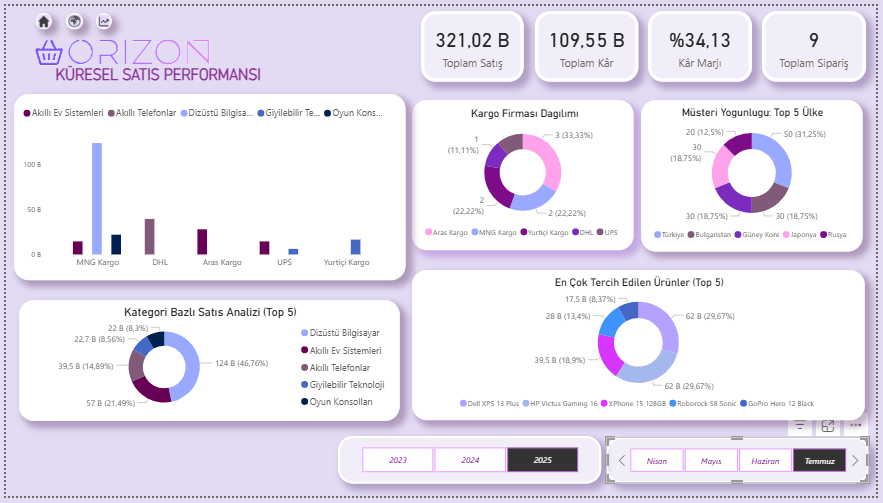

This screenshot's page, from the dashboard's own definition file:
{"tool":"powerbi","page":{"name":"Sayfa3","canvas":[1280,720],"ordinal":2},"visuals":[{"type":"slicer","fields":{"Values":["Takvim.Yıl"]},"box":[488.9,631.7,387.3,69.8],"z":0},{"type":"slicer","fields":{"Values":["Takvim.Ay"]},"box":[882.5,633.3,387.3,68.3],"z":1000},{"type":"donutChart","title":"Kargo Firması Dagılımı","fields":{"Category":["public siparisler.Kargo Firması"],"Y":["CountNonNull(public siparisler.Kargo Firması)"]},"box":[597.1,138.6,325.7,221.4],"z":6000},{"type":"donutChart","title":"Müsteri Yogunlugu: Top 5 Ülke","fields":{"Y":["CountNonNull(public musteriler.musteri_id)"],"Category":["public musteriler.Ülke"]},"box":[933.6,138.8,325.9,223.3],"z":7000},{"type":"clusteredColumnChart","title":"Yıllık Hedef Takip Analizi","fields":{"Category":["public siparisler.Kargo Firması"],"Y":["Hesaplamalar.Toplam Satış"],"Series":["public kategoriler.Kategori Adı"]},"box":[11.4,130,575.7,274.3],"z":8000},{"type":"donutChart","title":"En Çok Tercih Edilen Ürünler (Top 5)","fields":{"Y":["Hesaplamalar.Top 5 Ürün Satışı"],"Category":["public urunler.Ürün Adı"]},"box":[597.1,388.6,665.7,221.4],"z":9000},{"type":"donutChart","title":"Kategori Bazlı Satıs Analizi (Top 5)","fields":{"Category":["public kategoriler.Kategori Adı"],"Y":["Tablo.Top 5 Kategori"]},"box":[19.1,432.4,560.3,177.9],"z":10000},{"type":"image","box":[25.5,21.8,293.6,89.1],"z":10001},{"type":"textbox","box":[67.3,81.8,361.8,44.5],"z":10002},{"type":"image","box":[87.8,10.4,24.8,24.3],"z":10003},{"type":"image","box":[44.3,10.4,23,24.3],"z":10004},{"type":"image","box":[133,10.4,23,24.3],"z":10005},{"type":"card","fields":{"Values":["Tablo.Toplam Satış"]},"box":[610.8,6.8,151.4,104.1],"z":10006},{"type":"card","fields":{"Values":["Tablo.Toplam Kâr"]},"box":[778.4,6.9,151.7,104.3],"z":10007},{"type":"card","fields":{"Values":["Tablo.Kâr Marjı"]},"box":[944,6.9,152.6,104.3],"z":10008},{"type":"card","fields":{"Values":["Tablo.Toplam Sipariş"]},"box":[1112.2,6.8,152.7,104.1],"z":10009}]}

Visuals, with their boxes in screenshot pixels (x1, y1, x2, y2), scaled from the page's 1280x720 canvas onto the 883x503 screenshot:
slicer - Takvim.Yıl: 337 441 604 490
slicer - Takvim.Ay: 609 442 876 490
"Kargo Firması Dagılımı" donutChart: 412 97 637 252
"Müsteri Yogunlugu: Top 5 Ülke" donutChart: 644 97 869 253
"Yıllık Hedef Takip Analizi" clusteredColumnChart: 8 91 405 282
"En Çok Tercih Edilen Ürünler (Top 5)" donutChart: 412 271 871 426
"Kategori Bazlı Satıs Analizi (Top 5)" donutChart: 13 302 400 426
image: 18 15 220 77
textbox: 46 57 296 88
image: 61 7 78 24
image: 31 7 46 24
image: 92 7 108 24
card - Tablo.Toplam Satış: 421 5 526 77
card - Tablo.Toplam Kâr: 537 5 642 78
card - Tablo.Kâr Marjı: 651 5 756 78
card - Tablo.Toplam Sipariş: 767 5 873 77
